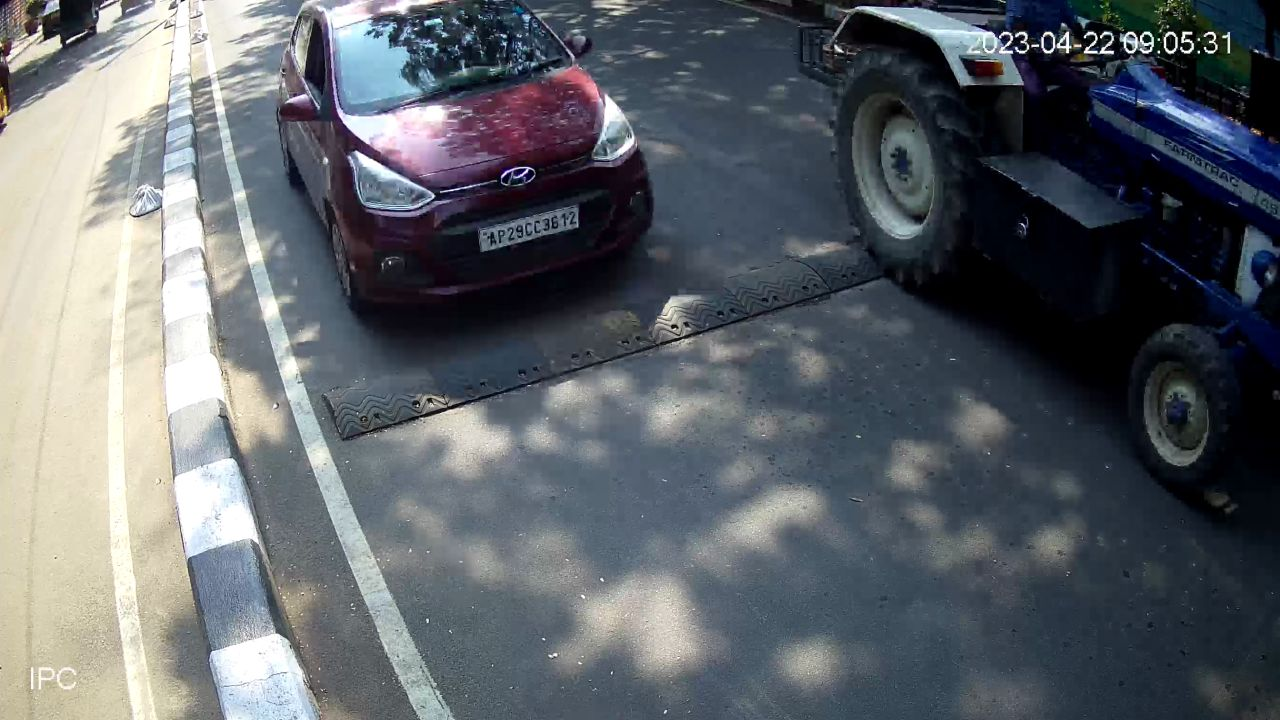license_plate: (475, 198, 585, 257)
